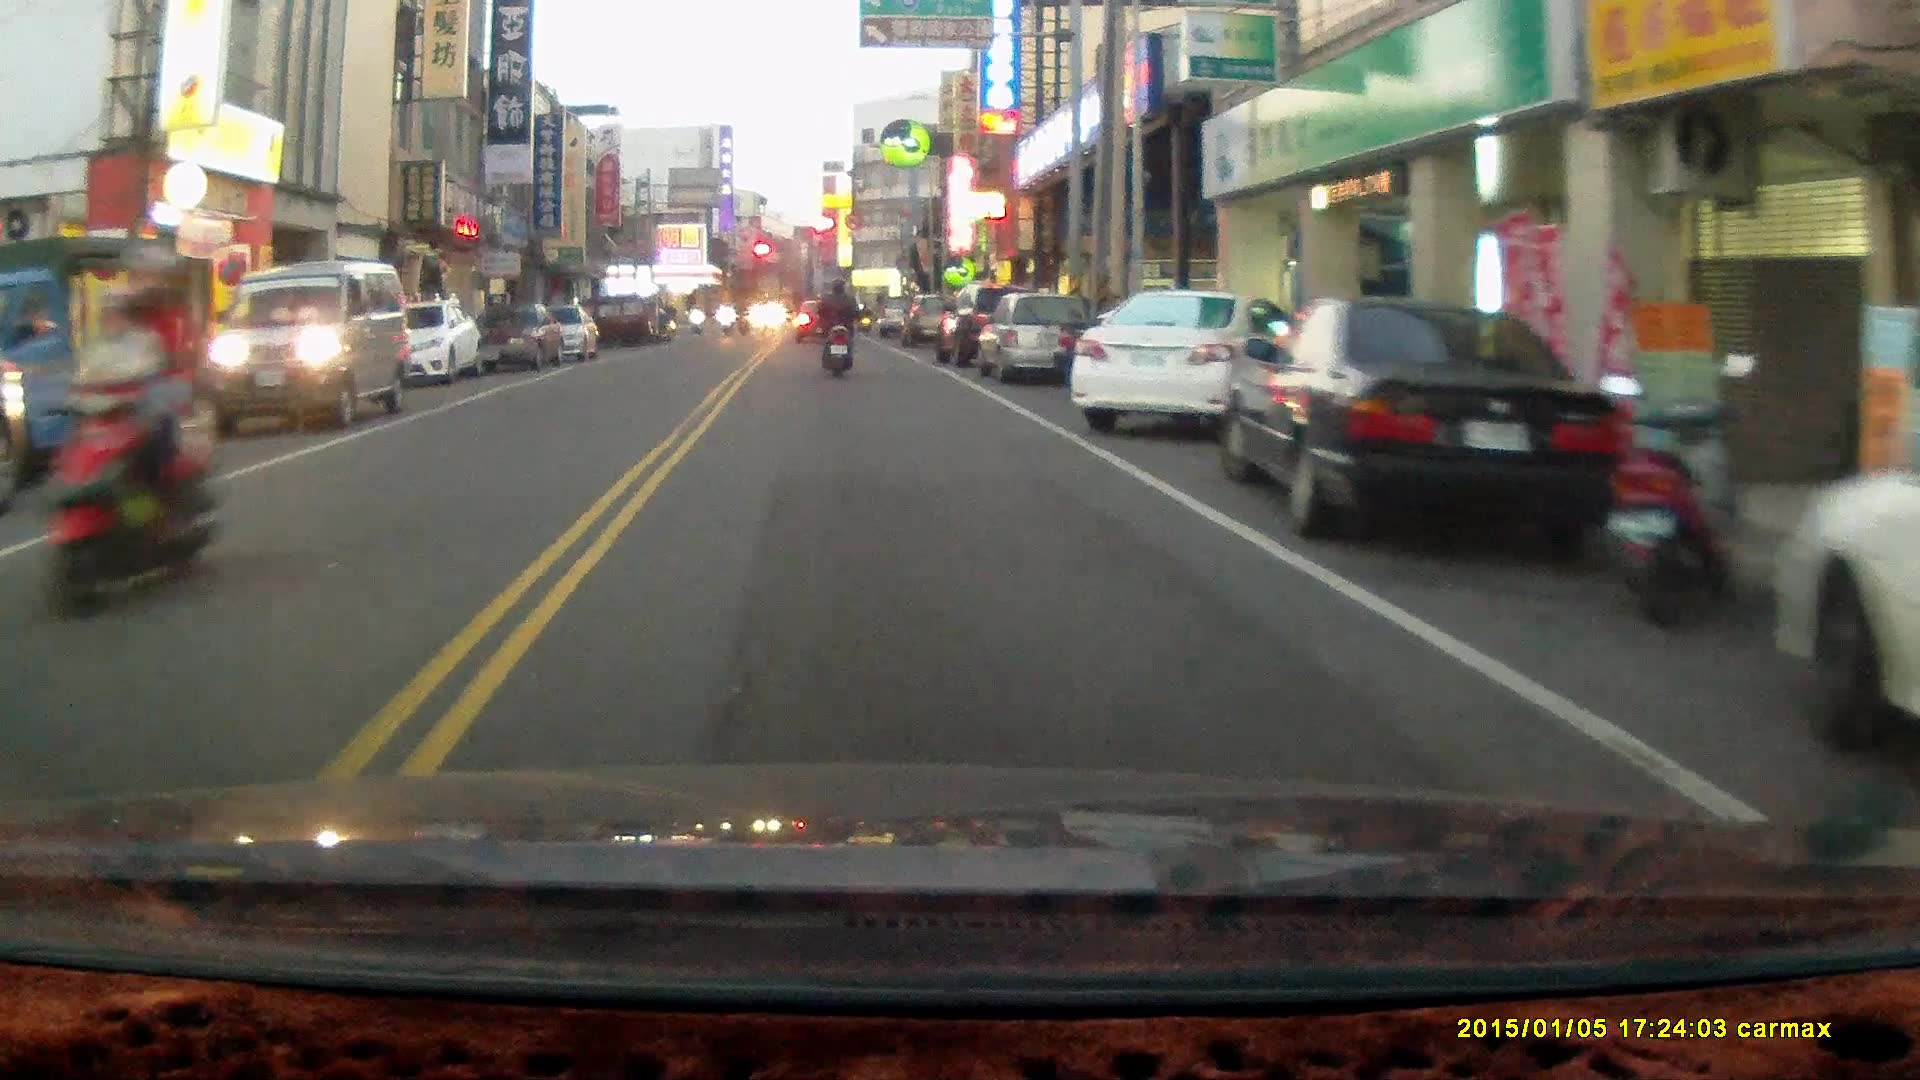rider: (38, 239, 224, 633), (815, 273, 862, 377)
vehicle: (1217, 298, 1624, 547), (1764, 386, 1920, 753), (216, 262, 416, 431), (1070, 287, 1288, 435), (971, 289, 1096, 386), (372, 297, 484, 390)
